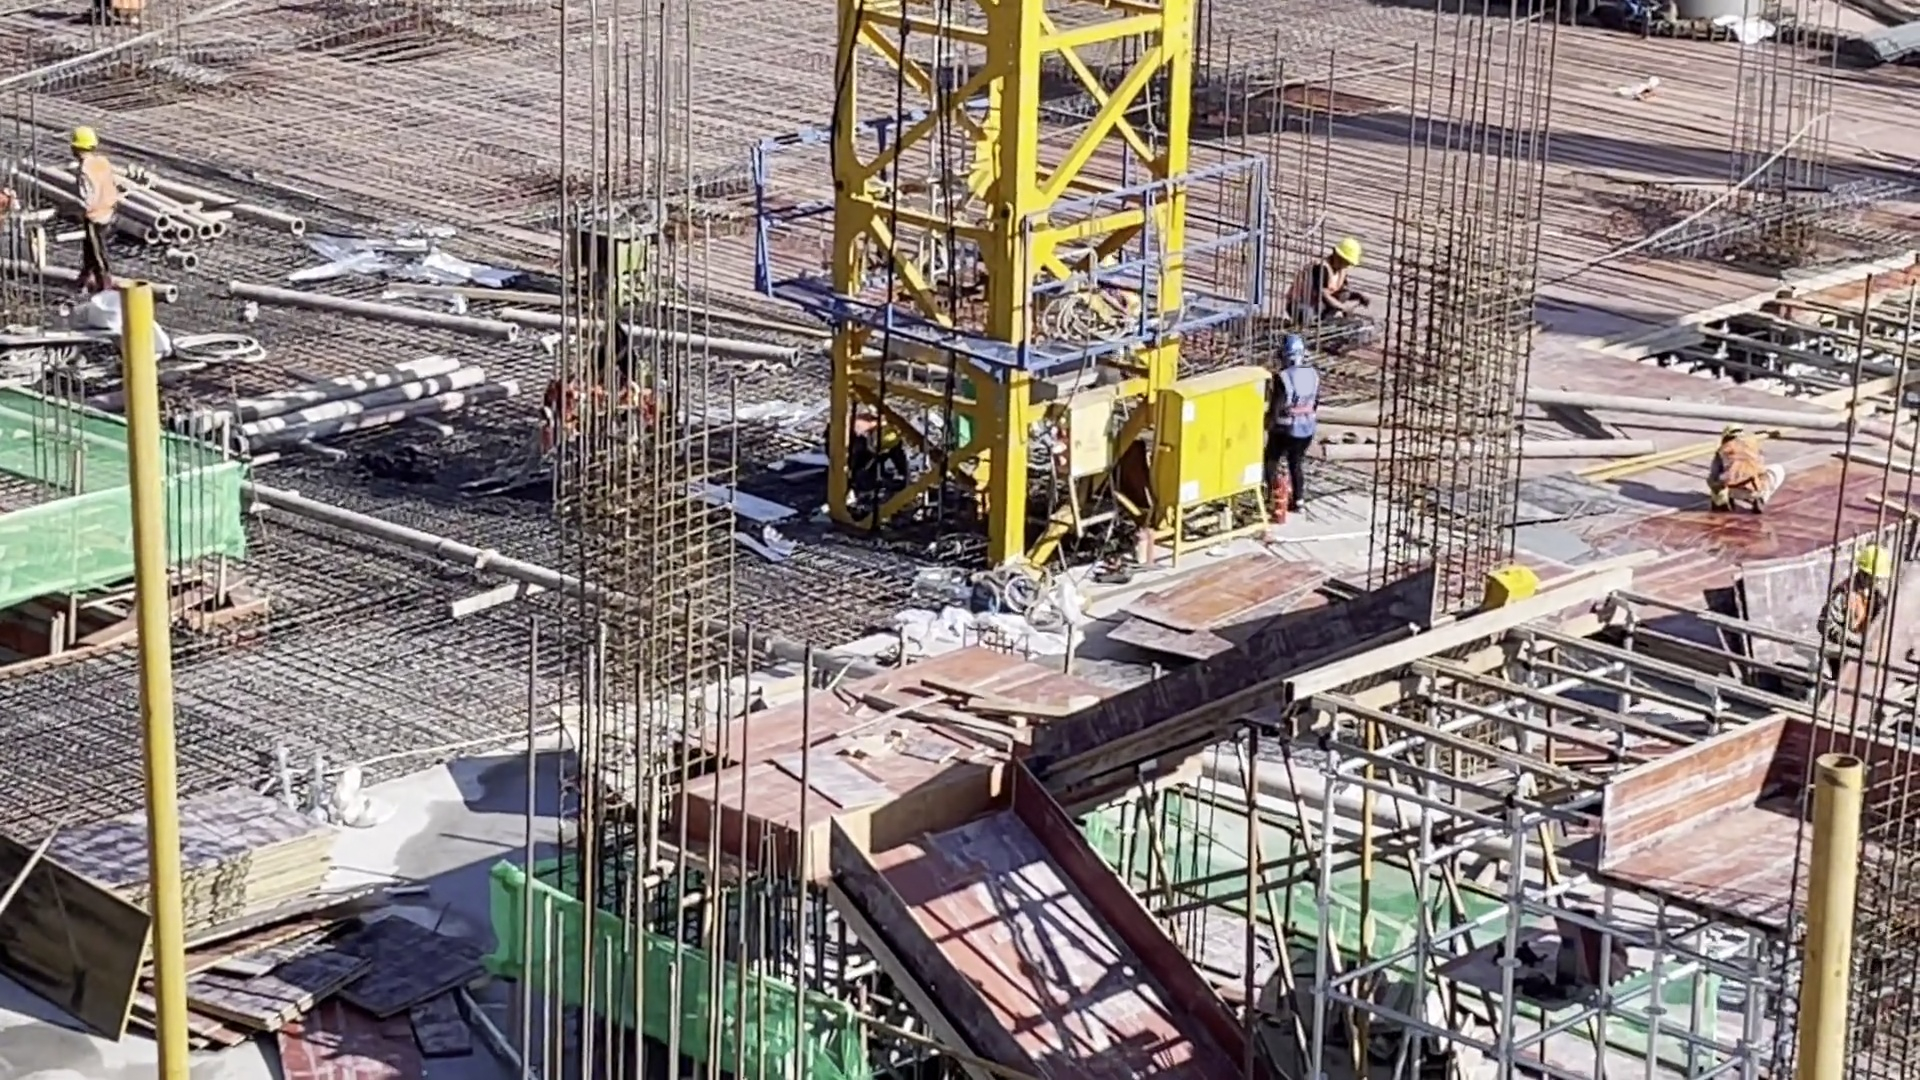helmet: (1858, 546, 1896, 582), (64, 119, 101, 150), (1277, 333, 1312, 363), (1329, 231, 1358, 258)
person: (1261, 333, 1329, 506), (63, 117, 123, 288), (1282, 236, 1361, 339), (1702, 418, 1787, 513), (1819, 545, 1890, 644)
vest: (1273, 364, 1320, 452), (69, 155, 117, 229), (1715, 438, 1765, 493)
